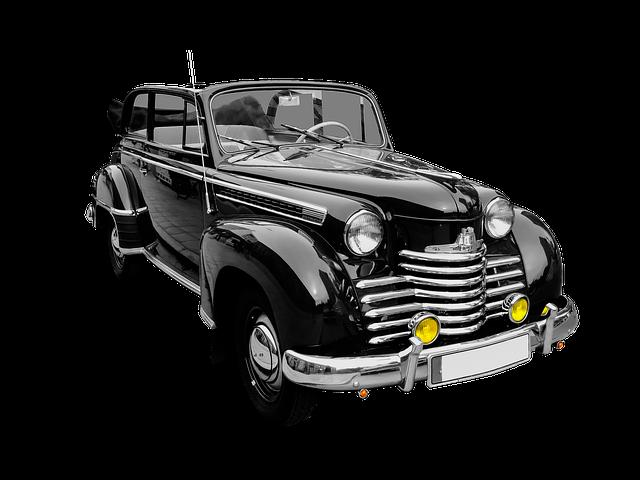Non_Gorille: (70, 30, 606, 412)
